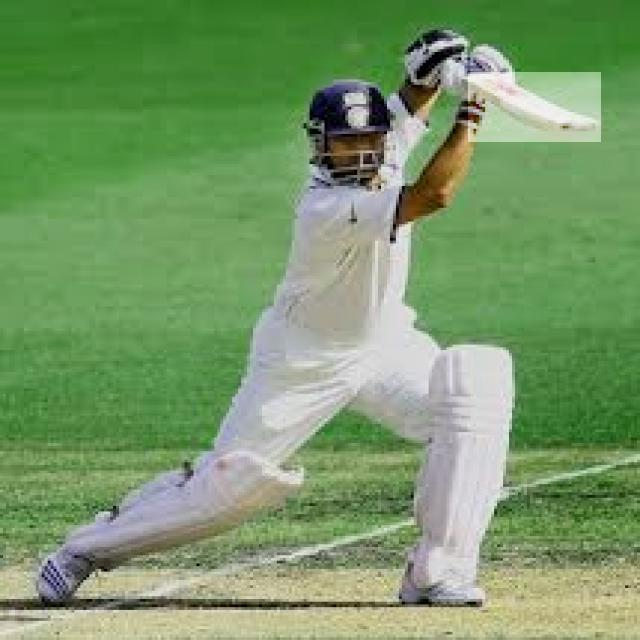bat: (466, 73, 601, 144)
toe: (558, 118, 600, 133)
